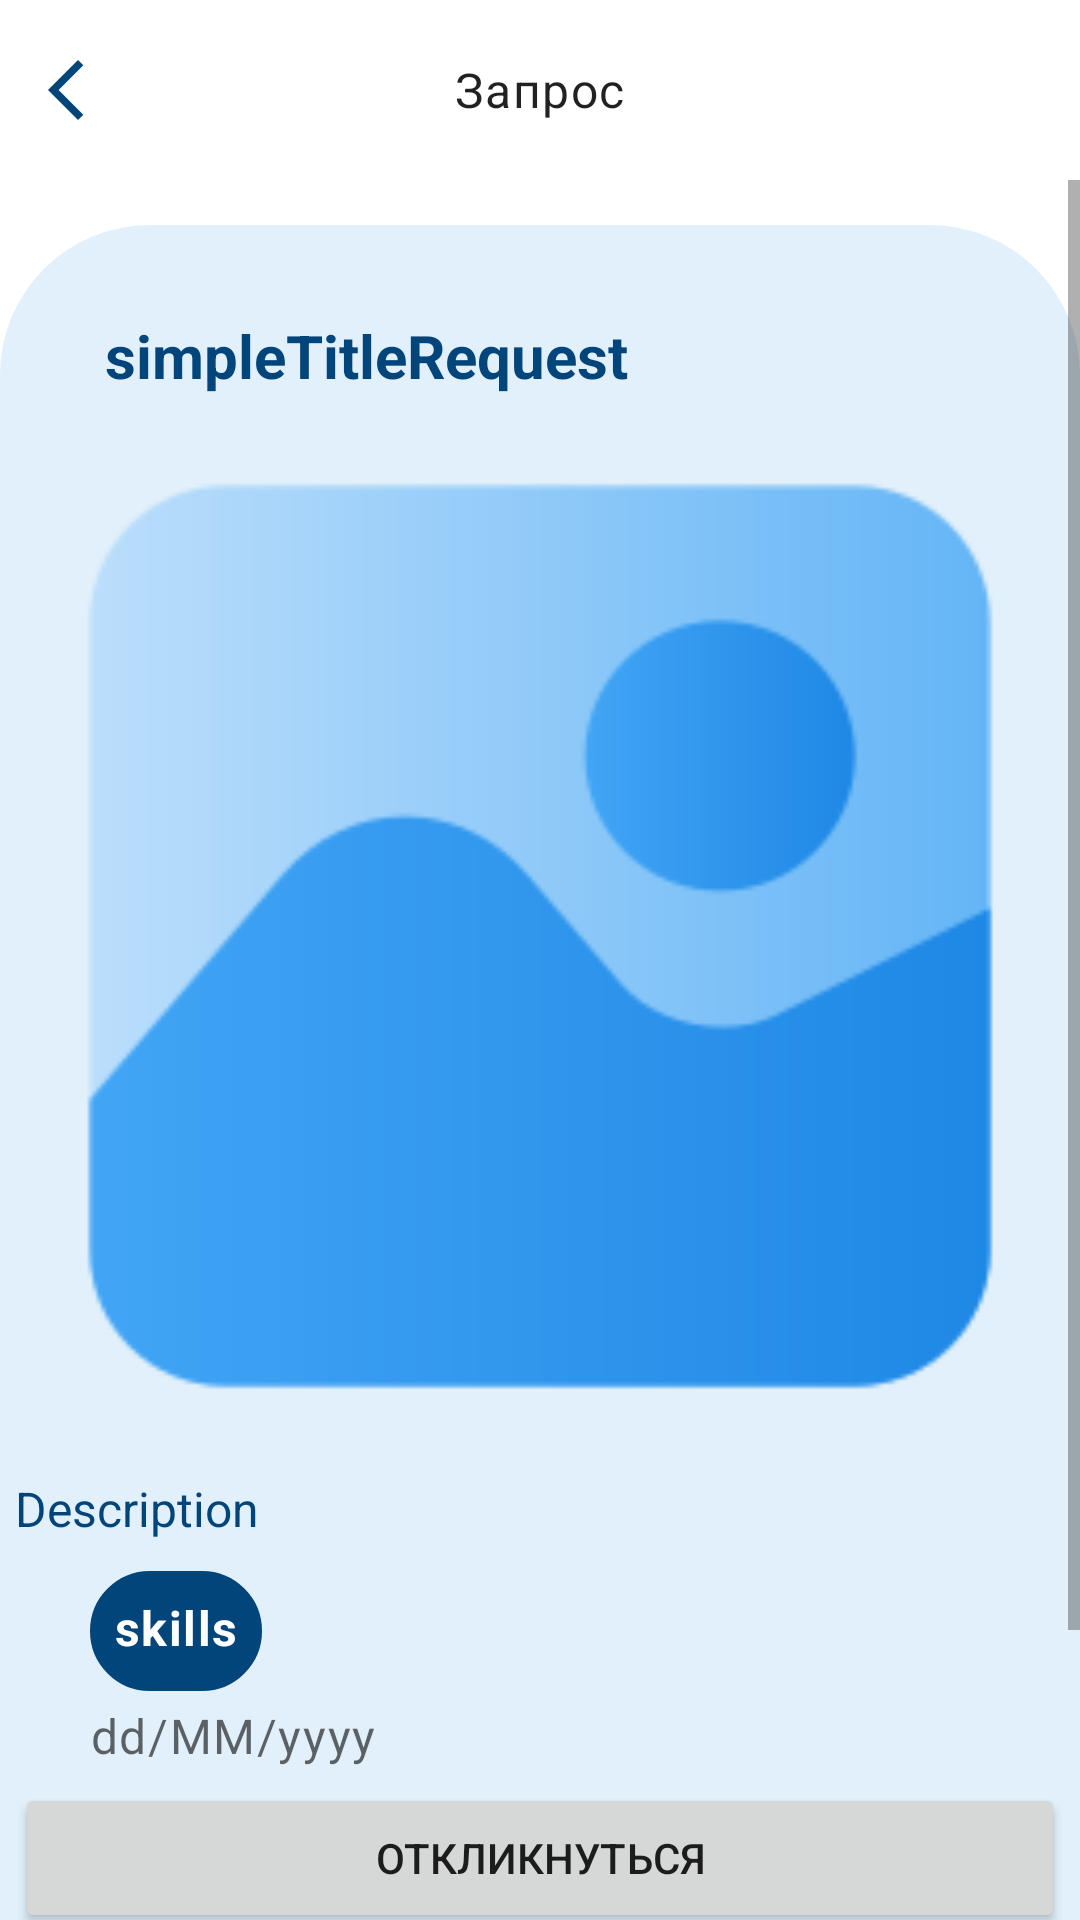

Point at icon controls on the screen. Image size 1080w x 1920h, points as point (x, y).
back: point (65, 90)
